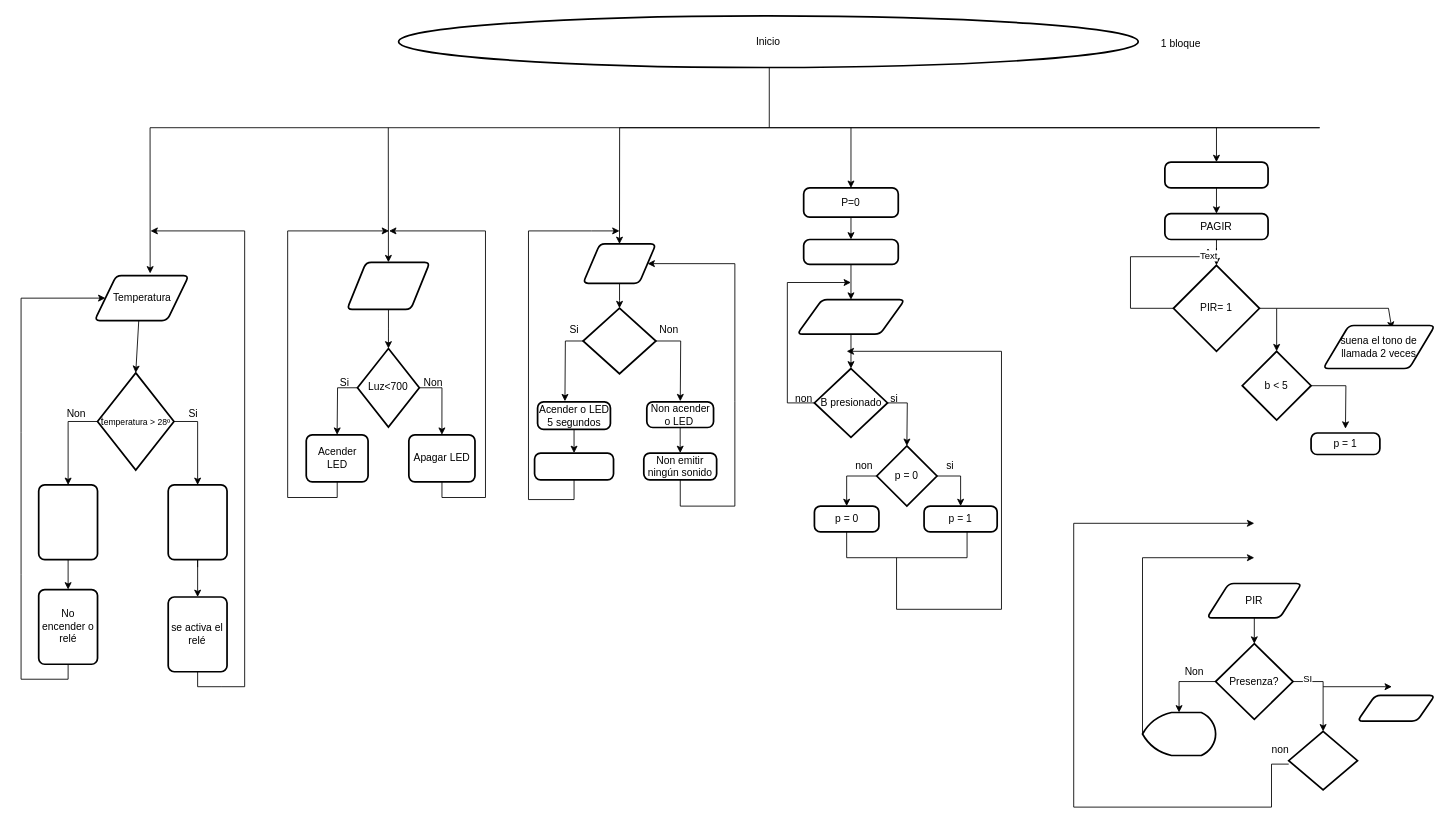
Some shapes in this 1451 by 832 pixel diagram are drawn without their labels. The shapes that lost their labels are listed below. From the top down, each one's centre as x and y in pixels, then its label:
At pixel 1216 174: "b = 0".
At pixel 619 263: "Botón A".
At pixel 850 251: "servo 0º".
At pixel 388 285: "Sensor de luz".
At pixel 850 316: "botón B".
At pixel 619 340: "Si se pulsa botón A".
At pixel 573 466: "Emite o son da microbit ringtone".
At pixel 67 522: "Non encender o LED nin o relé".
At pixel 197 522: "O LED vermello se acende".
At pixel 1178 733: "Mostrar casa".
At pixel 1322 760: "C < 5".
